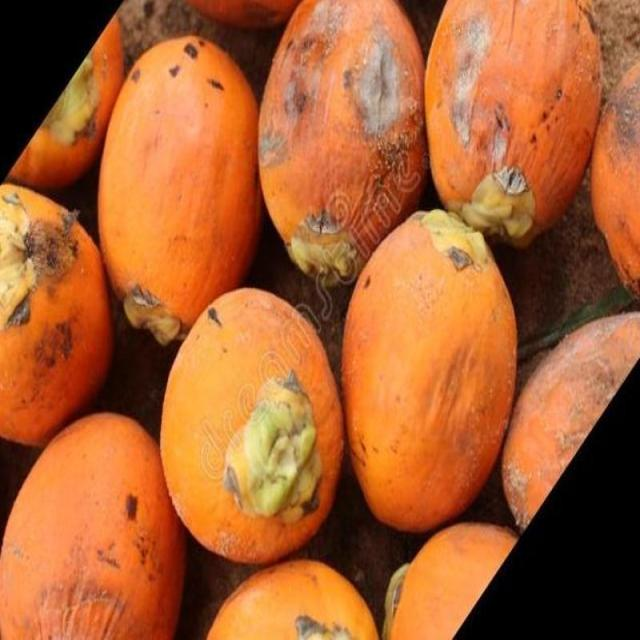good: (337, 174, 536, 538), (158, 287, 348, 570), (257, 0, 430, 304), (97, 35, 266, 346), (423, 0, 604, 251), (0, 412, 190, 639), (0, 184, 115, 450)
